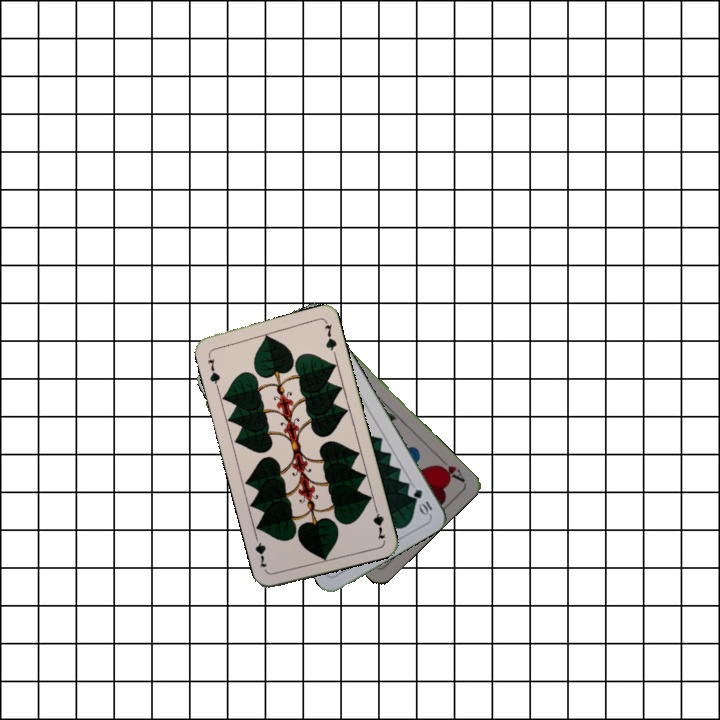G10: (409, 485, 435, 518)
G7: (369, 501, 388, 542), (204, 350, 223, 390)
HA: (433, 453, 467, 485)
